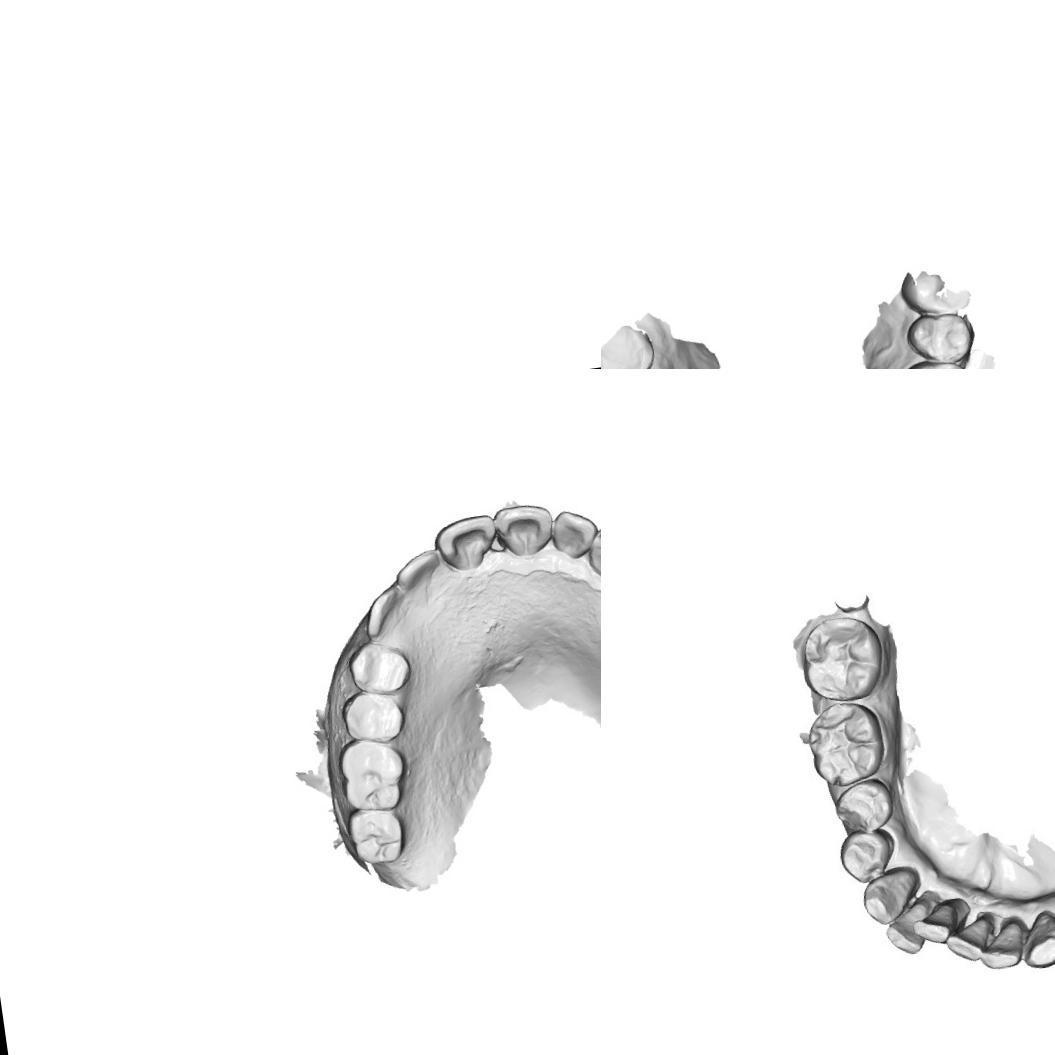canine: (856, 867, 922, 929), (356, 580, 411, 639), (1018, 903, 1055, 970), (583, 519, 601, 591)
incisor: (430, 511, 502, 574), (490, 500, 560, 562), (940, 913, 998, 968), (547, 504, 601, 563), (974, 919, 1028, 975), (881, 905, 930, 960), (390, 546, 446, 591), (914, 900, 969, 945)
molar: (798, 610, 890, 708), (802, 696, 889, 792), (334, 734, 412, 819), (340, 802, 411, 870)
premolar: (902, 307, 979, 369), (344, 635, 414, 701), (338, 686, 409, 748), (830, 776, 898, 838), (836, 829, 901, 885), (897, 354, 972, 369)
